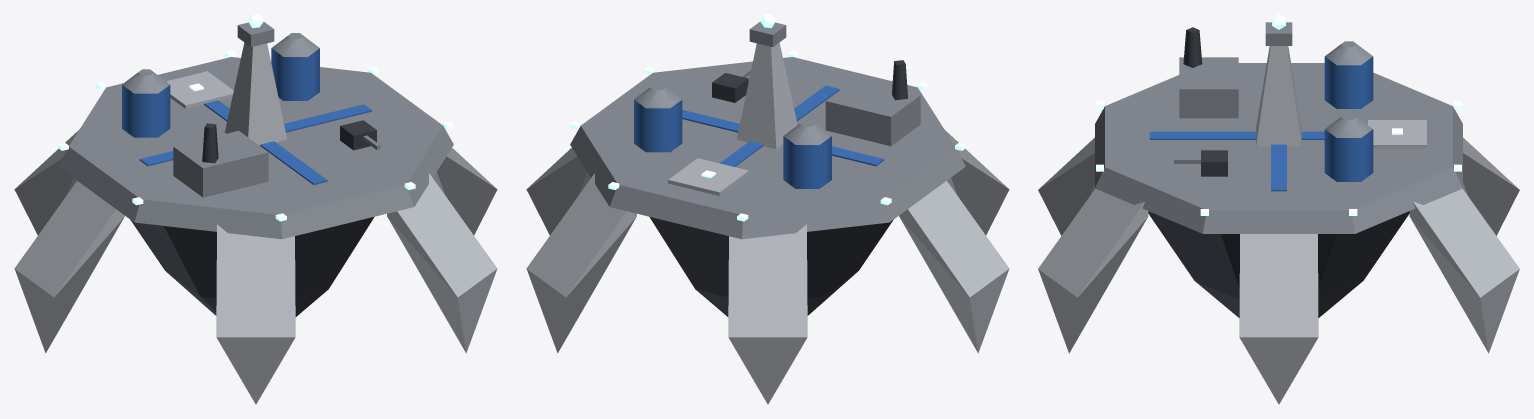
Rendered from MiningRig.glb.
3 views of the same model, side by side, from view 1: azimuth 30°, elevation 25°; view 2: azimuth 150°, elevation 25°; view 3: azimuth 270°, elevation 25° (orthographic).
Visible parts, largest first — view 1: deck, clamp_2, clamp_3, clamp_1, anchor_plug, refinery, derrick, clamp_0, clamp_4, ore_silo_L, ore_silo_R, landing_pad (+7 smaller); view 2: deck, clamp_4, clamp_3, clamp_5, anchor_plug, refinery, derrick, clamp_0, clamp_2, ore_silo_R, ore_silo_L, landing_pad (+7 smaller); view 3: deck, clamp_0, clamp_1, clamp_5, anchor_plug, refinery, derrick, clamp_2, clamp_4, ore_silo_R, ore_silo_L, landing_pad (+7 smaller).
Boxes of the visible parts, x1,y1,x2,y2 form: deck: (58, 57, 453, 239); clamp_2: (216, 224, 295, 404); clamp_3: (14, 181, 124, 353); clamp_1: (387, 173, 497, 353); anchor_plug: (130, 216, 374, 316); refinery: (173, 130, 268, 197); derrick: (224, 42, 287, 145); clamp_0: (433, 148, 497, 235); clamp_4: (14, 129, 79, 235); ore_silo_L: (122, 85, 170, 137); ore_silo_R: (271, 48, 319, 100); landing_pad: (166, 71, 233, 108); deck: (570, 57, 965, 239); clamp_4: (728, 224, 807, 404); clamp_3: (899, 181, 1009, 353); clamp_5: (526, 173, 636, 353); anchor_plug: (649, 216, 893, 316); refinery: (825, 79, 920, 146); derrick: (736, 42, 797, 149); clamp_0: (526, 148, 590, 235); clamp_2: (944, 129, 1009, 235); ore_silo_R: (634, 100, 682, 152); ore_silo_L: (783, 136, 831, 188); landing_pad: (668, 158, 749, 195); deck: (1095, 63, 1462, 233); clamp_0: (1239, 234, 1318, 404); clamp_1: (1038, 188, 1148, 353); clamp_5: (1409, 188, 1519, 353); anchor_plug: (1148, 211, 1409, 317); refinery: (1179, 57, 1238, 118); derrick: (1256, 46, 1301, 146); clamp_2: (1038, 137, 1094, 235); clamp_4: (1463, 137, 1519, 235); ore_silo_R: (1324, 129, 1373, 181); ore_silo_L: (1324, 56, 1373, 108); landing_pad: (1368, 120, 1426, 148).
Bounding box in the file's own units: 190 × 138 × 179.
